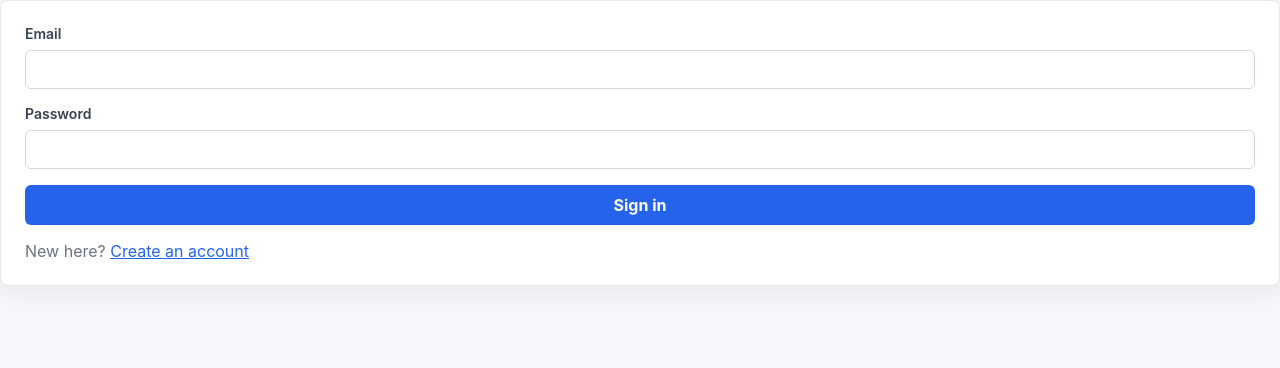
LoginPage › shows backend login errors through shared alert feedback
The width and height of the screenshot is (1280, 368).
Type "sam@example.com" into the field labelled "Email" at (640, 70), box x1=25 y1=50 x2=1255 y2=89
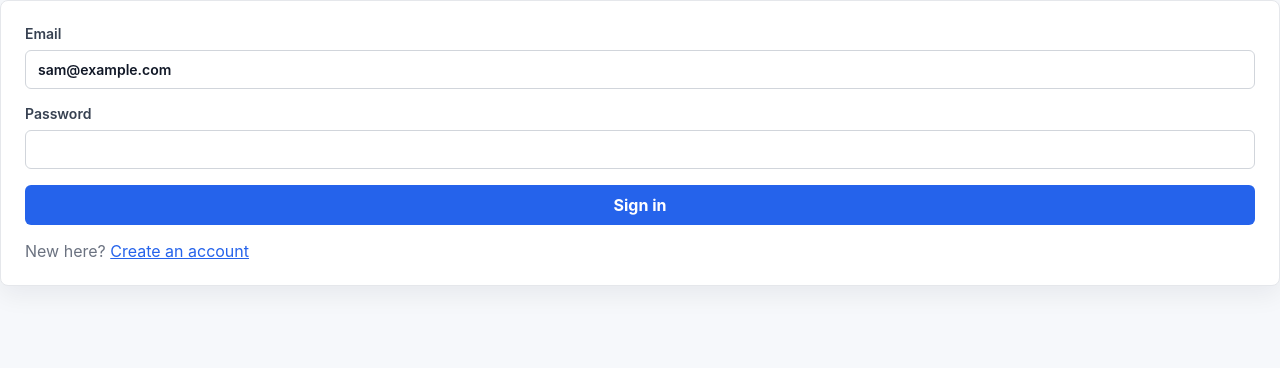
Type "password123" into the password field labelled "Password" at (640, 150), box x1=25 y1=130 x2=1255 y2=169
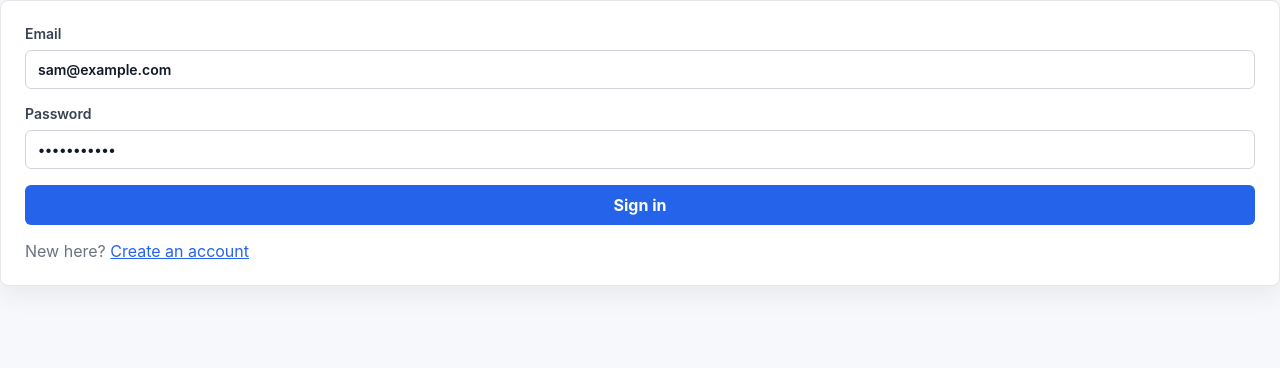
Click the button "Sign in" at (640, 205), box x1=25 y1=185 x2=1255 y2=225
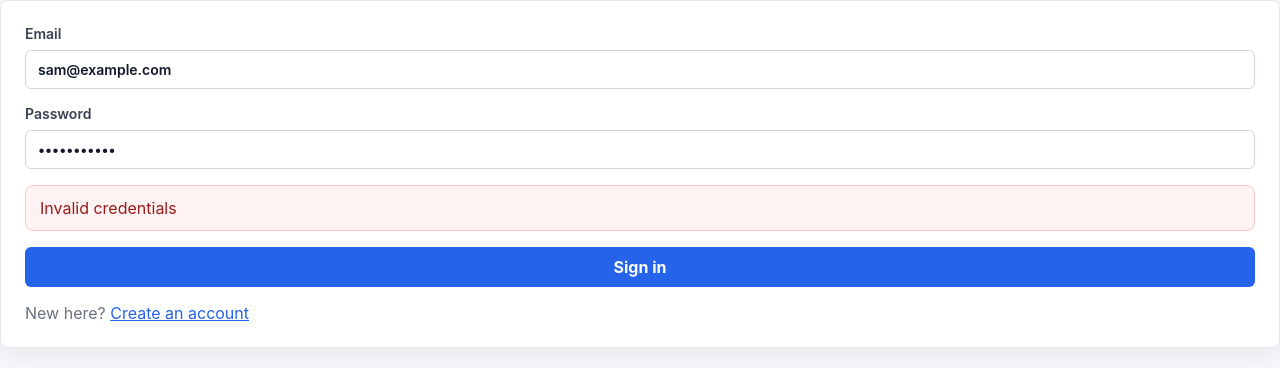
Expected: the message reads "Invalid credentials", x1=40 y1=198 x2=177 y2=218
